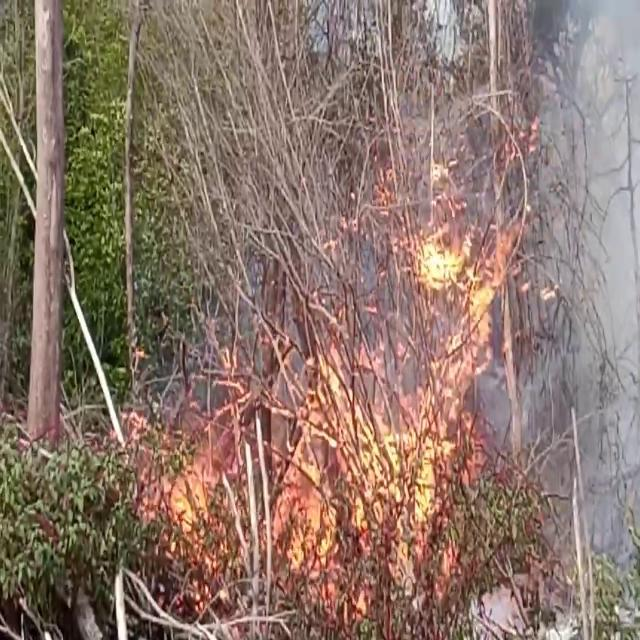Fire: (138, 212, 514, 606)
Smoke: (518, 1, 640, 575)
